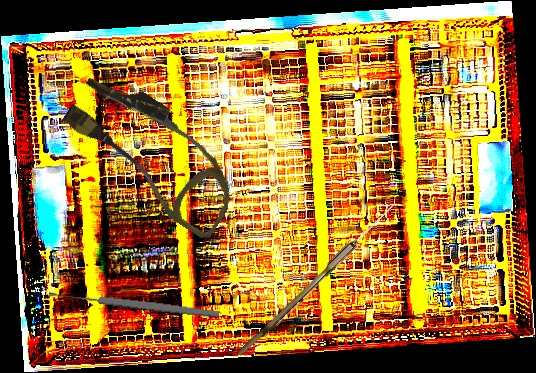Cannula: (49, 63, 257, 242)
Surgical Spoon: (236, 198, 399, 361), (48, 288, 220, 320)
